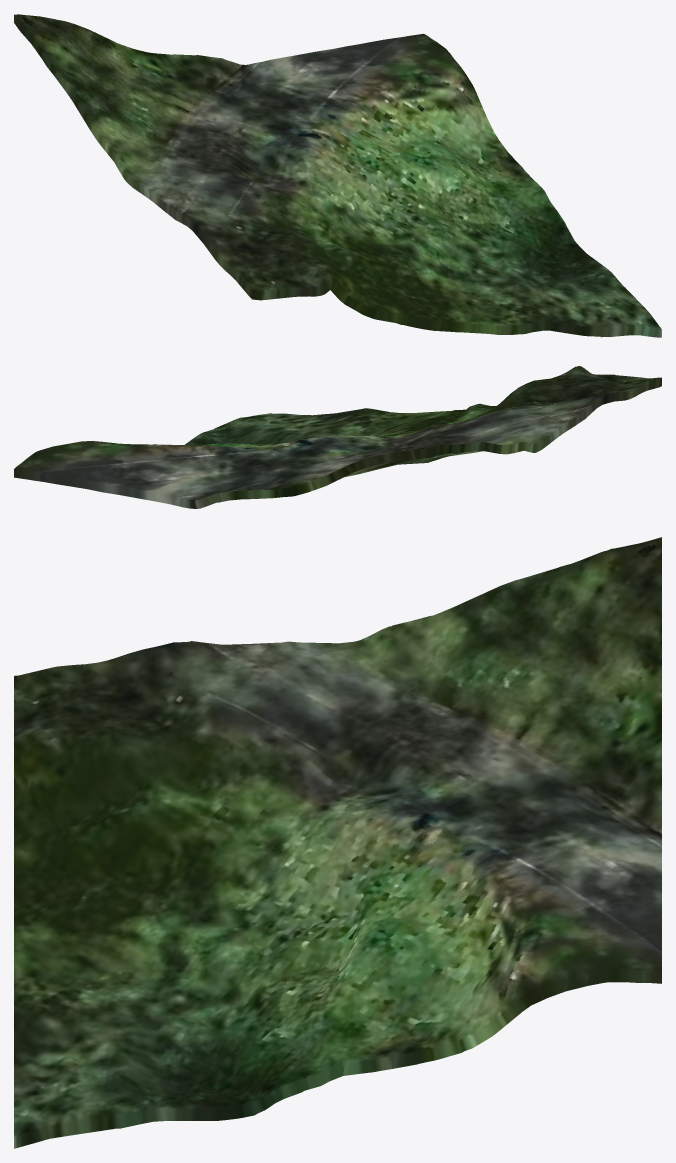
File: z20-167566-405178-h0-yup-uvflip-v3-world.glb
The picture shows the model from 3 angles, top to bottom: view 1: azimuth 30°, elevation 25°; view 2: azimuth 150°, elevation 25°; view 3: azimuth 270°, elevation 25°; orthographic projection. The views are drawn at different scales.
Bounding box in the file's own units: 30.16 × 17.52 × 30.32.
1 material, 1 textured.
